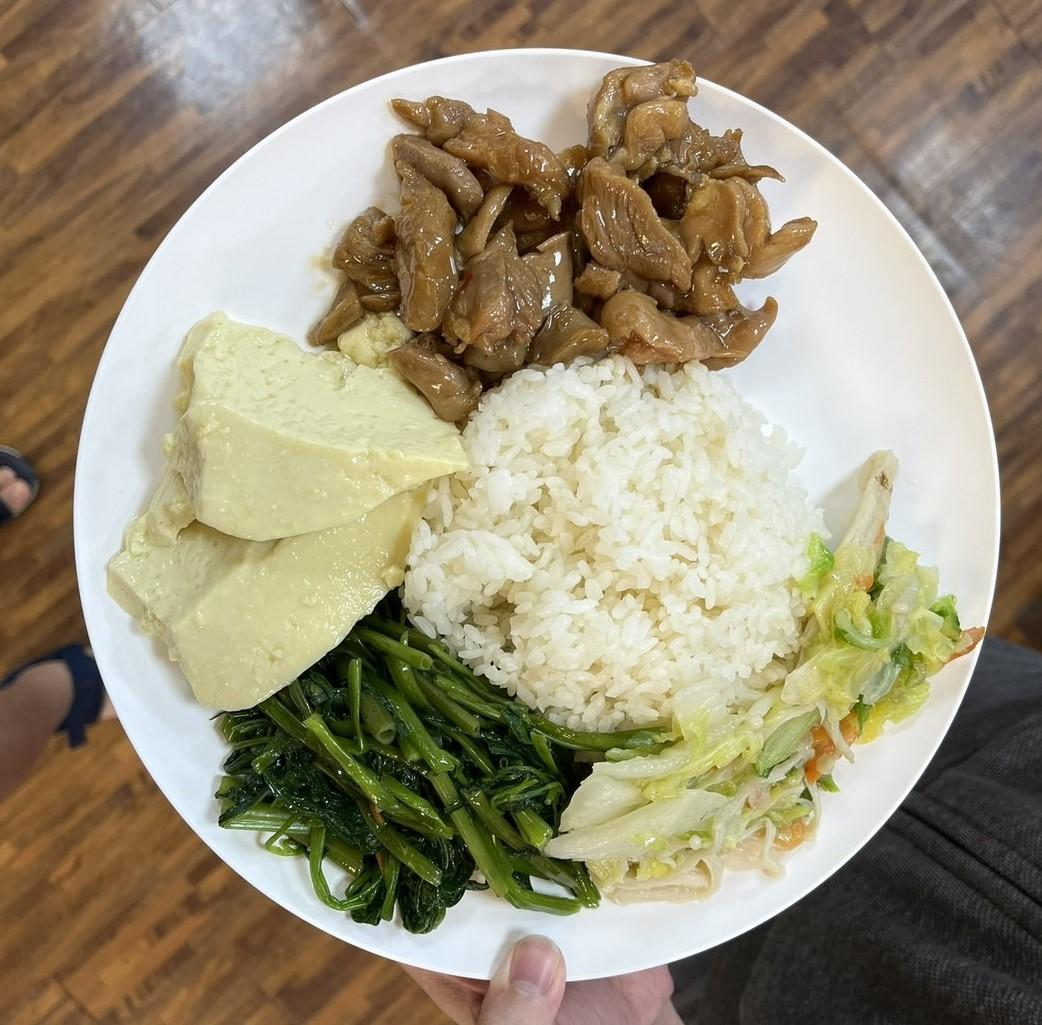big fried chicken leg: (60, 40, 1026, 991)
big herbal chicken leg: (404, 360, 820, 739)
braised fish fillet: (556, 525, 984, 911), (110, 328, 427, 693), (218, 617, 570, 940)
braised pork: (330, 63, 810, 409)
